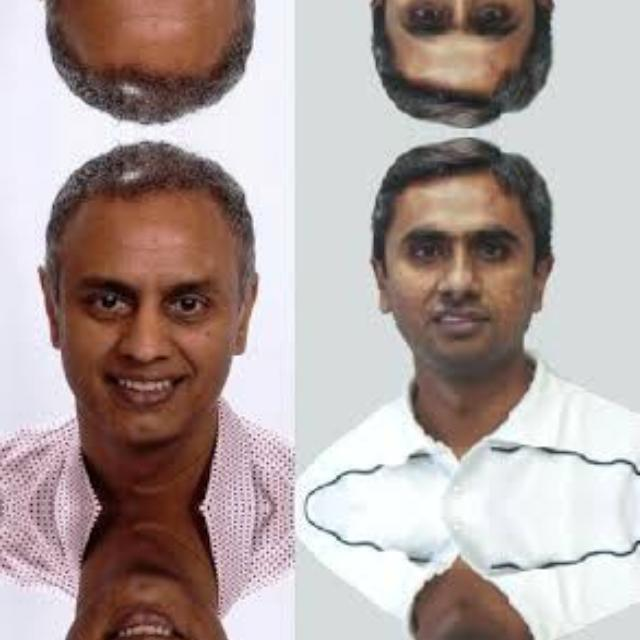person: (29, 132, 274, 478), (338, 136, 572, 434), (29, 0, 274, 131), (338, 0, 571, 128), (29, 538, 274, 640), (338, 582, 571, 640)
